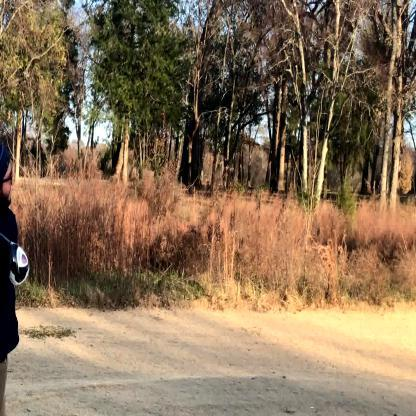GolfBall: (6, 238, 30, 286)
